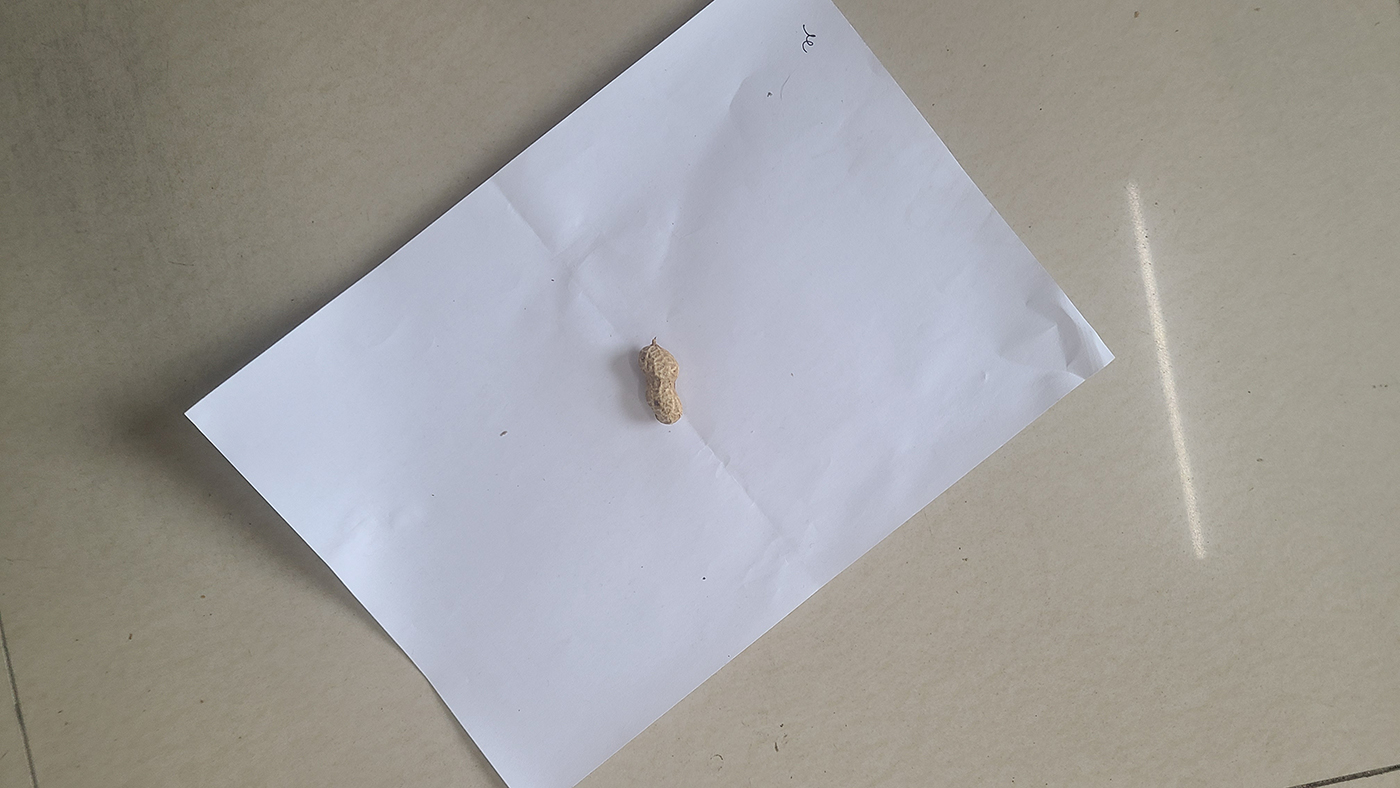h: (638, 345, 683, 424)
